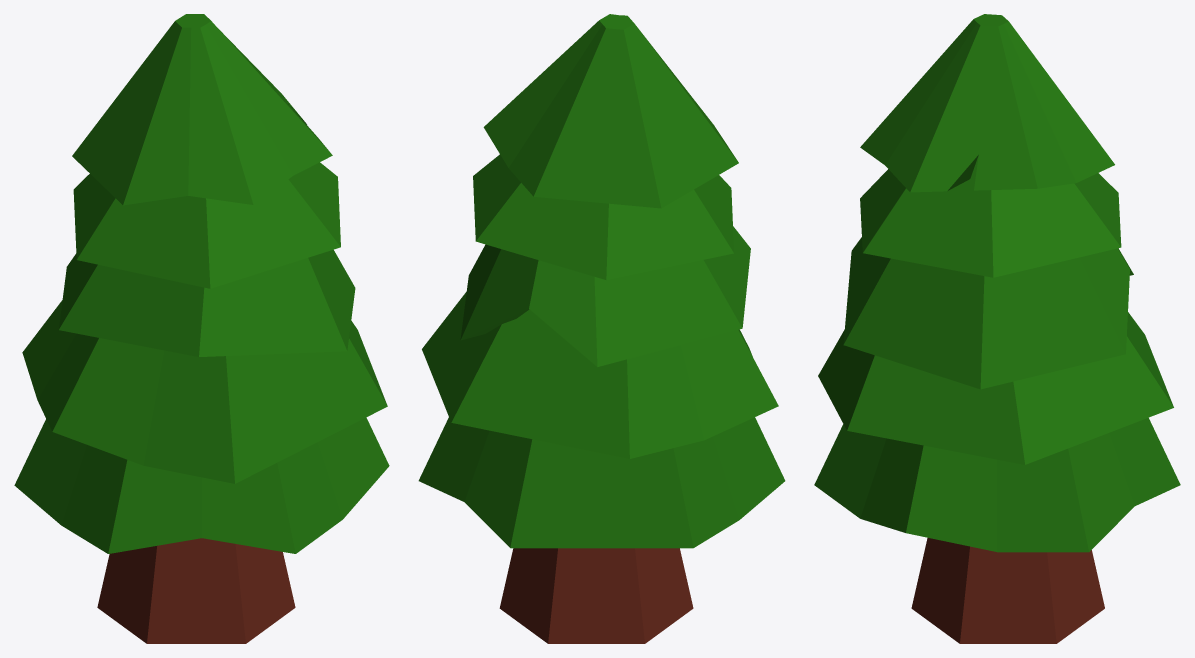
Rendered from tree.fbx.
The picture shows the model from 3 angles, left to right: view 1: azimuth 30°, elevation 25°; view 2: azimuth 150°, elevation 25°; view 3: azimuth 270°, elevation 25°; orthographic projection. The views are drawn at different scales.
Parts seen in each view (by area): view 1: Cylinder.002, Cylinder.005, Cylinder.001, Cylinder.003, Cylinder.004, Cylinder; view 2: Cylinder.002, Cylinder.001, Cylinder.005, Cylinder.003, Cylinder.004, Cylinder; view 3: Cylinder.001, Cylinder.003, Cylinder.005, Cylinder.002, Cylinder.004, Cylinder.
Boxes of the visible parts, <box> form: Cylinder.002: <box>22,300,387,483</box>; Cylinder.005: <box>72,14,332,205</box>; Cylinder.001: <box>14,417,389,553</box>; Cylinder.003: <box>58,249,355,356</box>; Cylinder.004: <box>73,162,340,288</box>; Cylinder: <box>97,538,295,643</box>; Cylinder.002: <box>422,292,778,458</box>; Cylinder.001: <box>418,417,785,548</box>; Cylinder.005: <box>483,14,738,208</box>; Cylinder.003: <box>460,226,750,366</box>; Cylinder.004: <box>473,154,733,280</box>; Cylinder: <box>499,548,693,643</box>; Cylinder.001: <box>814,417,1180,552</box>; Cylinder.003: <box>843,237,1133,389</box>; Cylinder.005: <box>860,14,1114,192</box>; Cylinder.002: <box>818,312,1173,464</box>; Cylinder.004: <box>860,169,1121,277</box>; Cylinder: <box>911,538,1104,643</box>.
Size of the model in its own units: 391 by 665 by 379.
